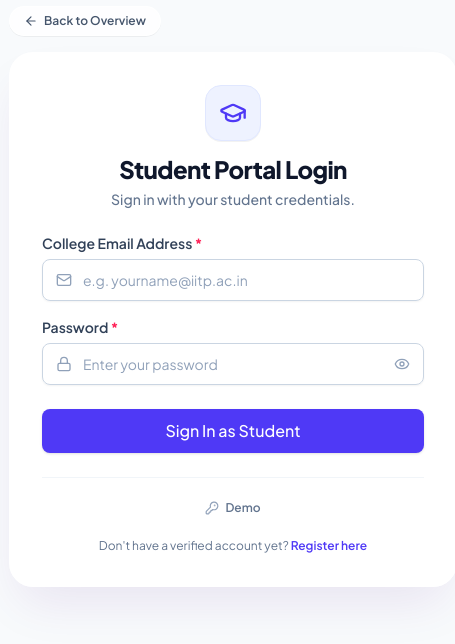
StudentLoginPage › validates invalid email format and non-@iitp.ac.in domains
Invalid format
Type "not-an-email" into the field labelled "College Email Address *" at [233, 280], box [42,259,424,301]
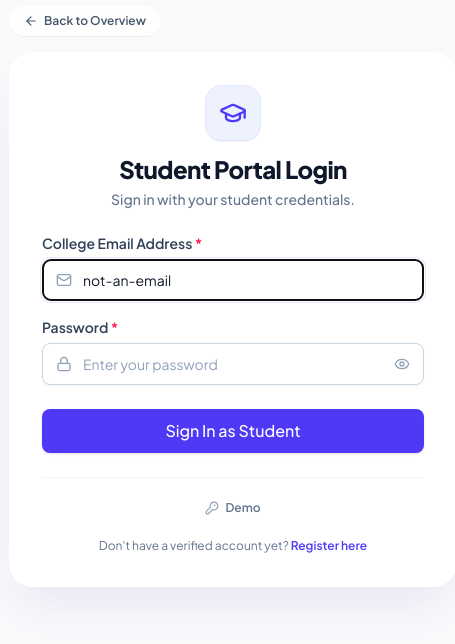
Type "validpass123" into the password field labelled "Password *" at [233, 364], box [42,343,424,385]
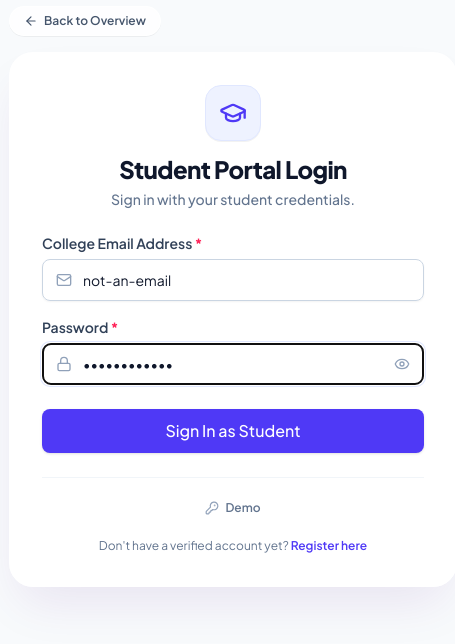
Click the button "Sign In as Student" at [233, 431], box [42,409,424,453]
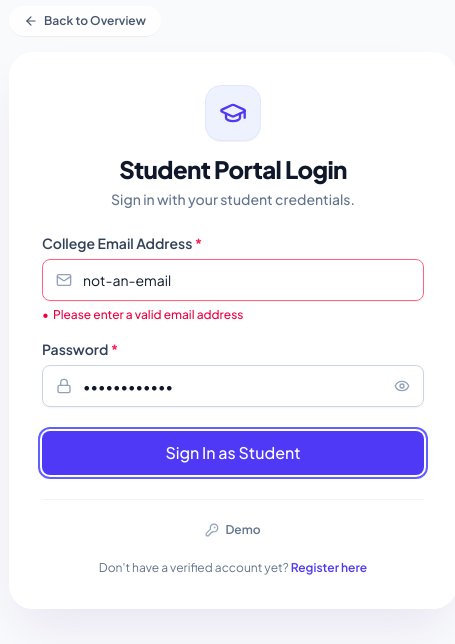
Expected: the text "• Please enter a valid email address" is shown, [42,307,243,322]
Replace the text in the field labelled "College Email Address *" with "student@gmail.com" at [233, 280], box [42,259,424,301]
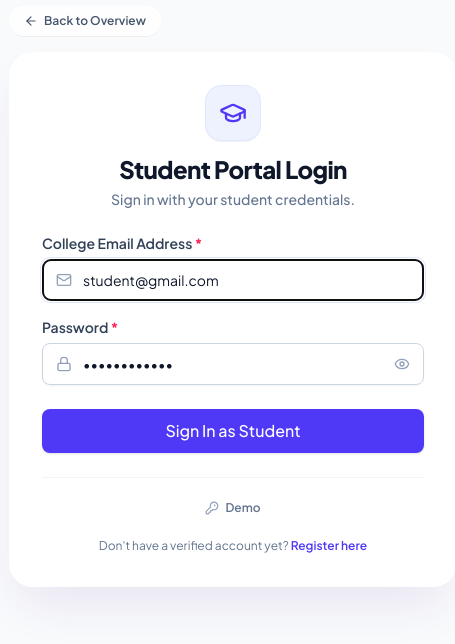
Click the button "Sign In as Student" at [233, 431], box [42,409,424,453]
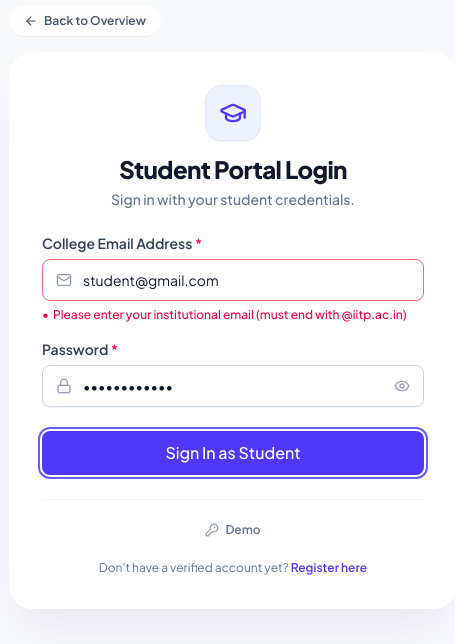
Expected: the text "must end with @iitp.ac.in" is shown, [53,307,407,322]
